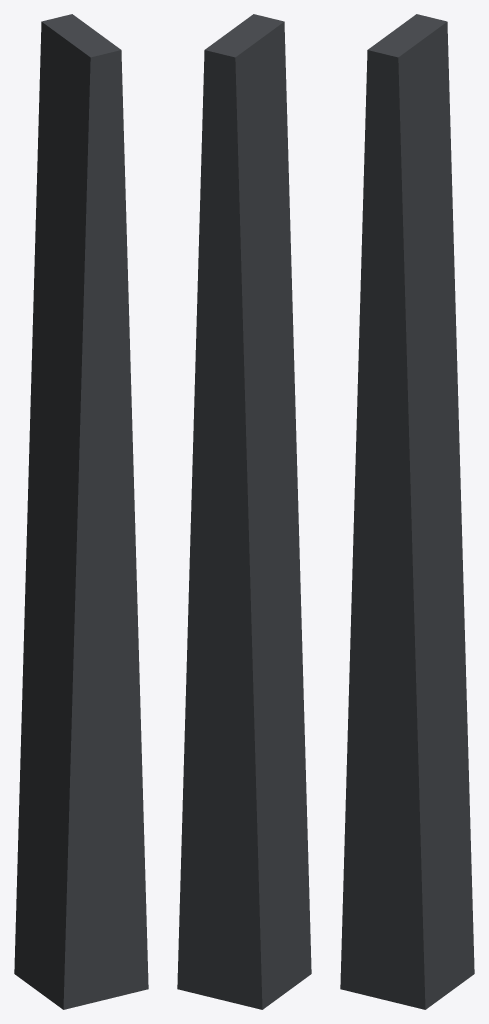
File: Clock1_C3_02.fbx
3 renders of one model, left to right at view 1: azimuth 30°, elevation 25°; view 2: azimuth 150°, elevation 25°; view 3: azimuth 330°, elevation 25°, orthographic.
Visible parts, largest first — view 1: Clock1_C3_02; view 2: Clock1_C3_02; view 3: Clock1_C3_02.
Part boxes in pixels (left/top/right/bottom): Clock1_C3_02: left=14, top=14, right=148, bottom=1009; Clock1_C3_02: left=177, top=14, right=311, bottom=1009; Clock1_C3_02: left=340, top=14, right=474, bottom=1009.
Bounding box in the file's own units: 0.7428 × 7.89 × 0.7428.
